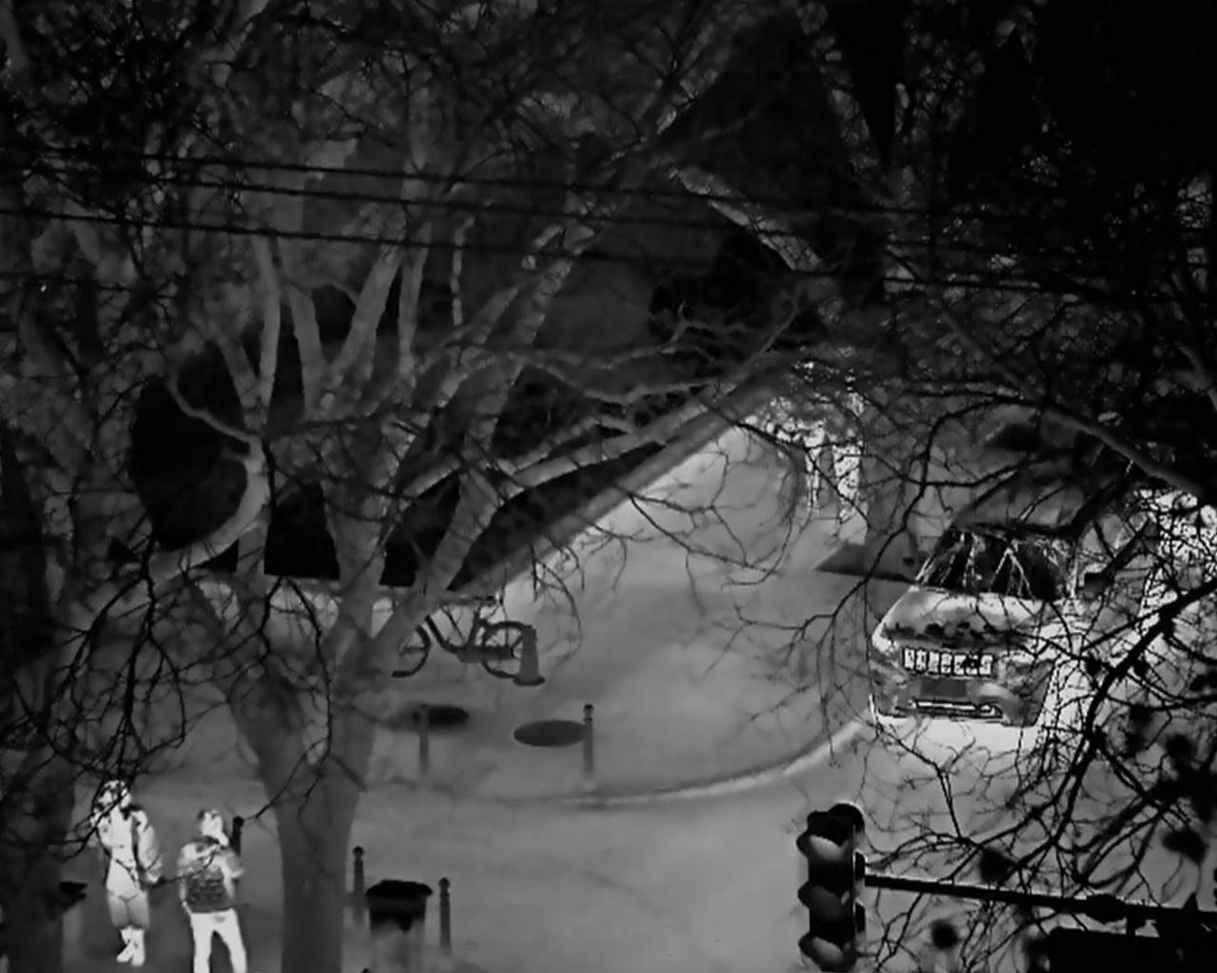person: (90, 779, 162, 968), (175, 808, 245, 973), (762, 353, 823, 518), (820, 365, 871, 524)
